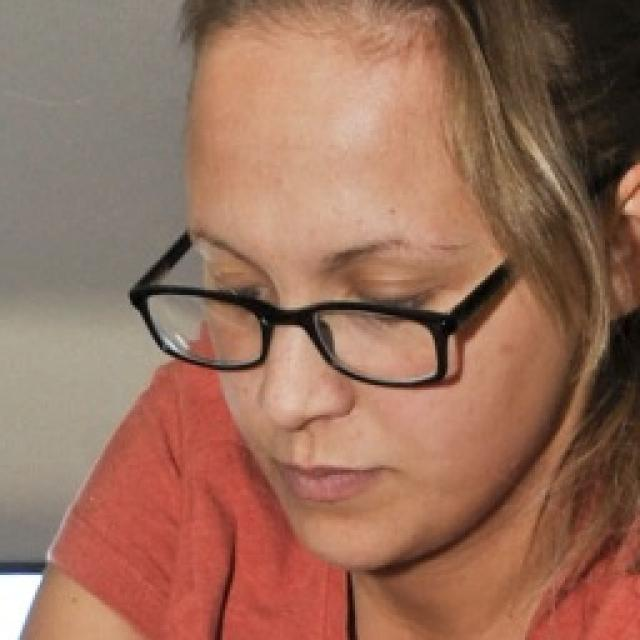glasses: (121, 223, 524, 394)
